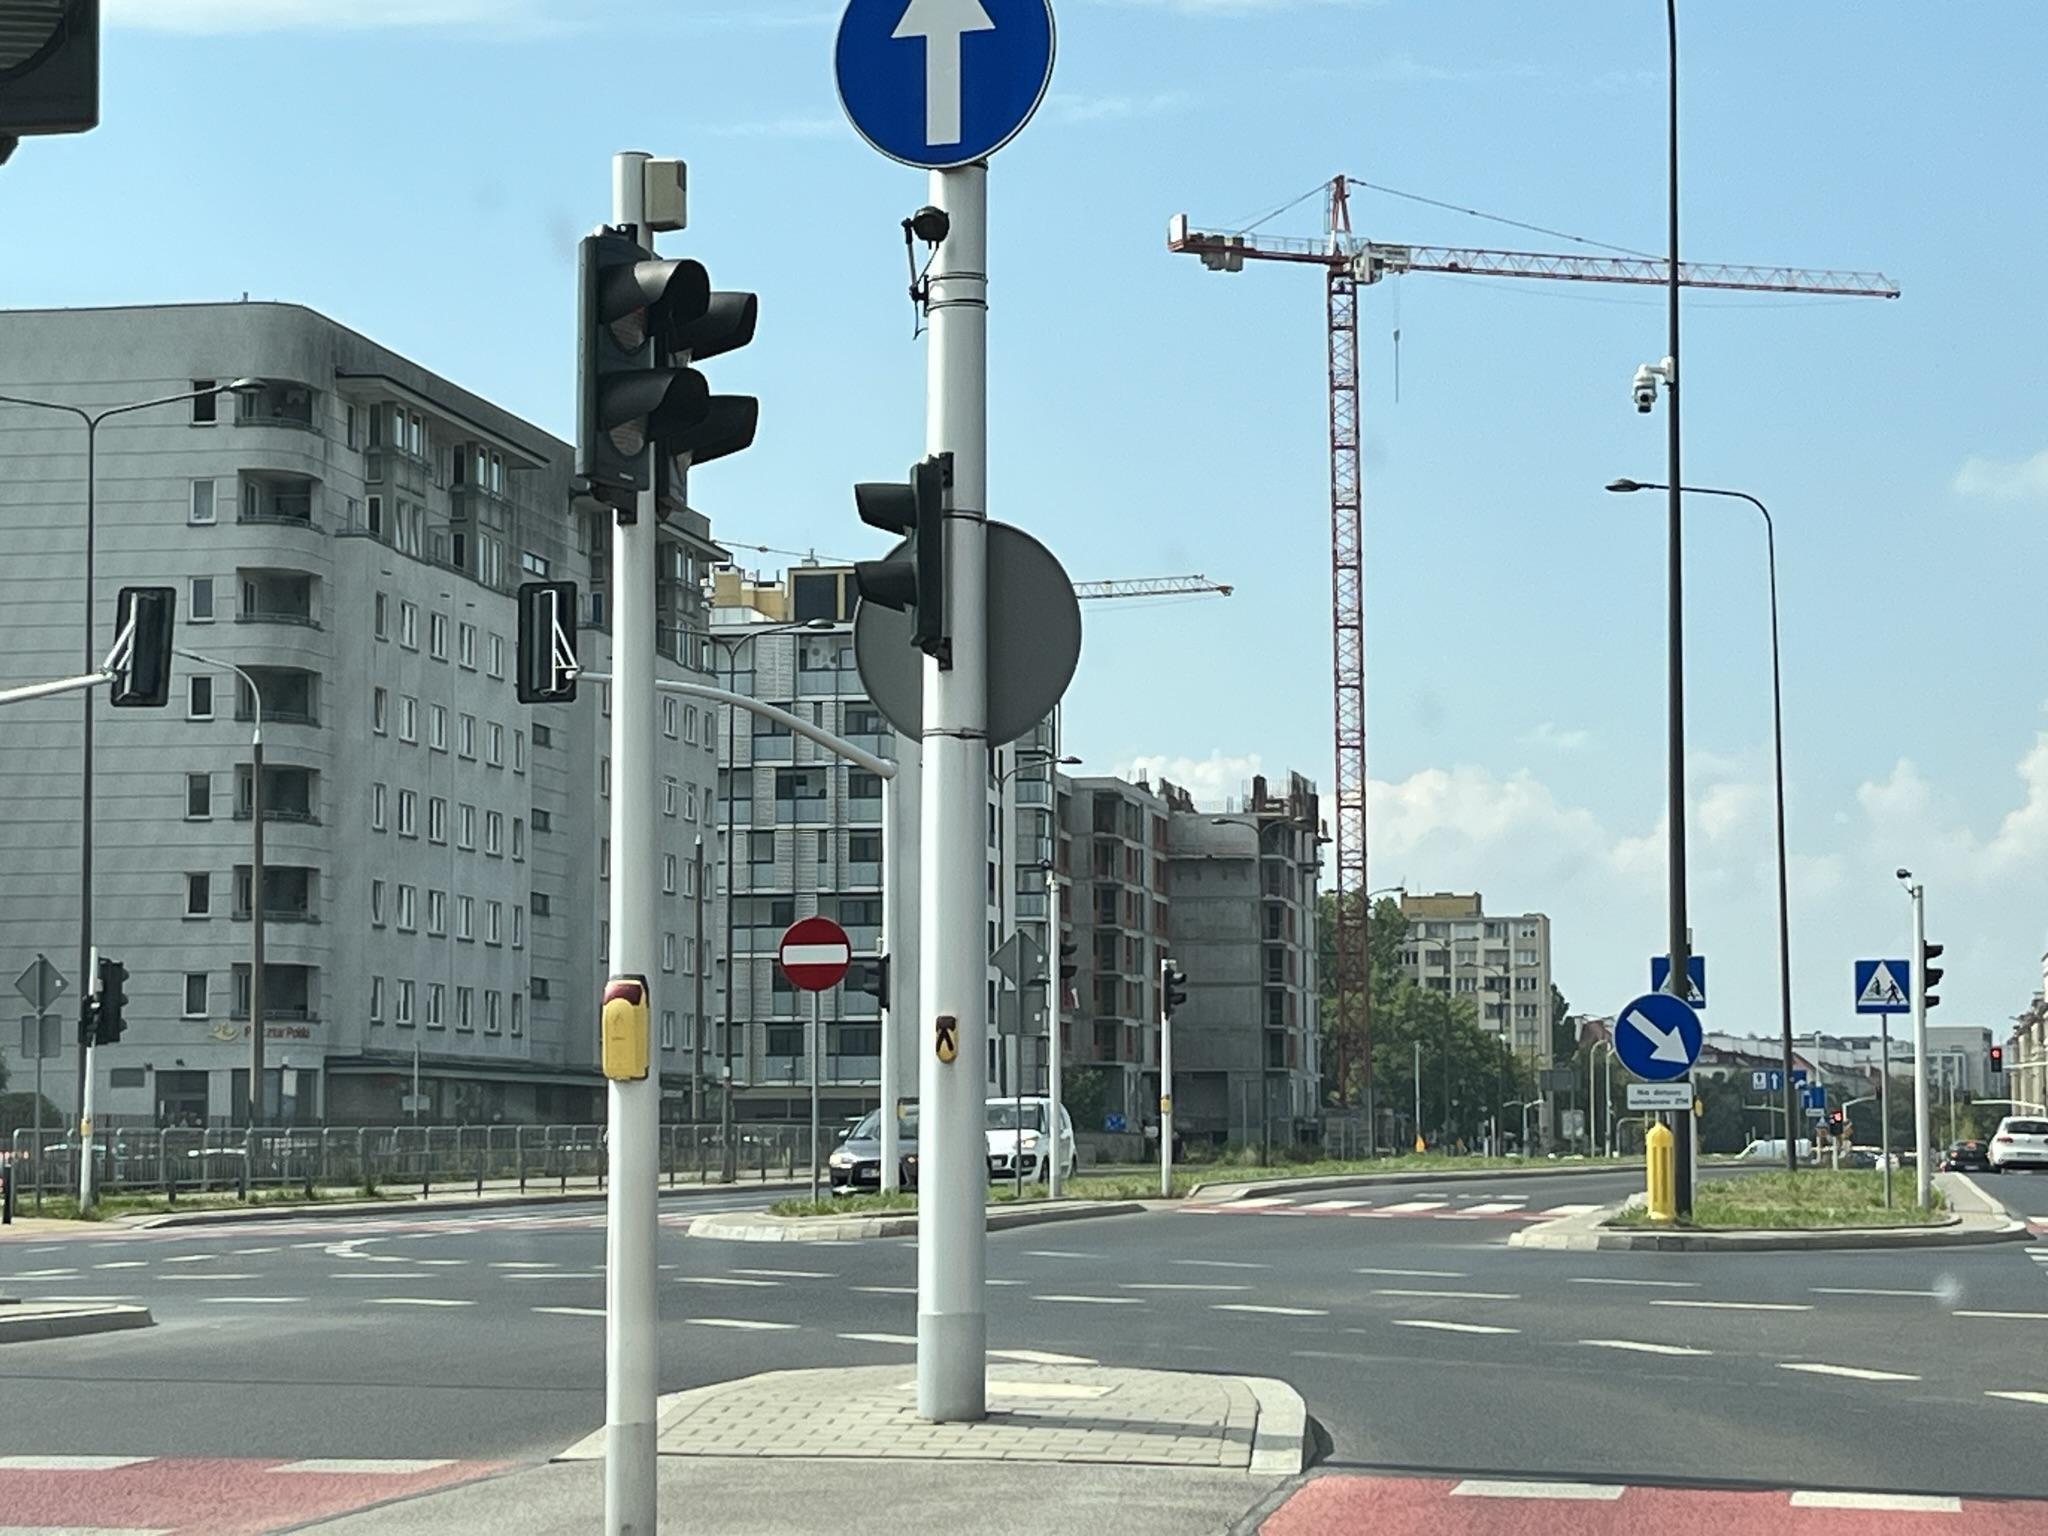information: (1856, 960, 1909, 1013)
mandatory: (1613, 992, 1705, 1083)
prohibitory: (777, 916, 851, 992)
